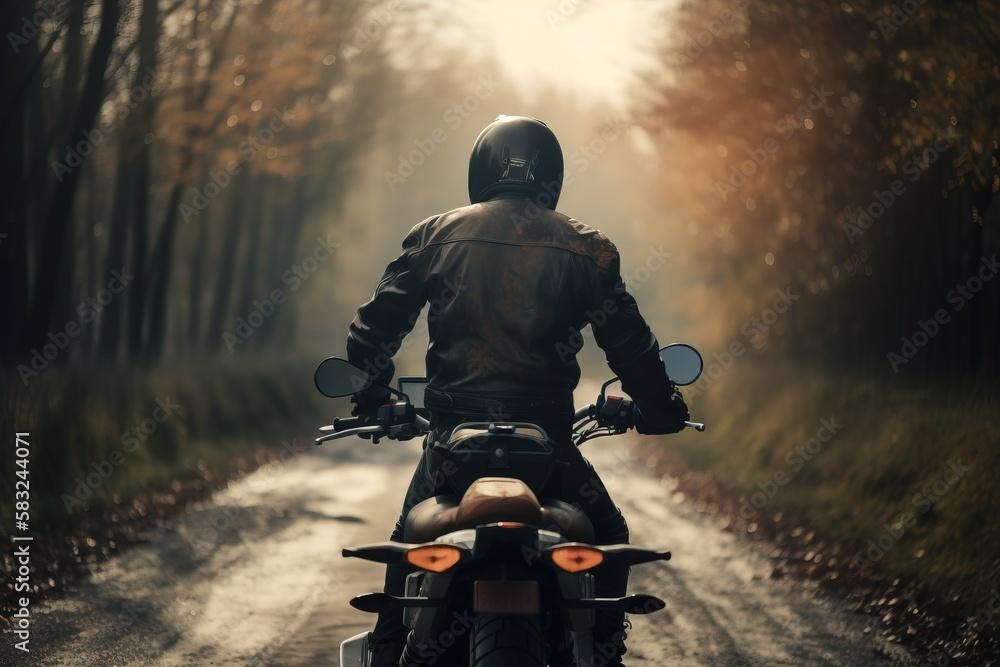helmet: (467, 113, 565, 212)
